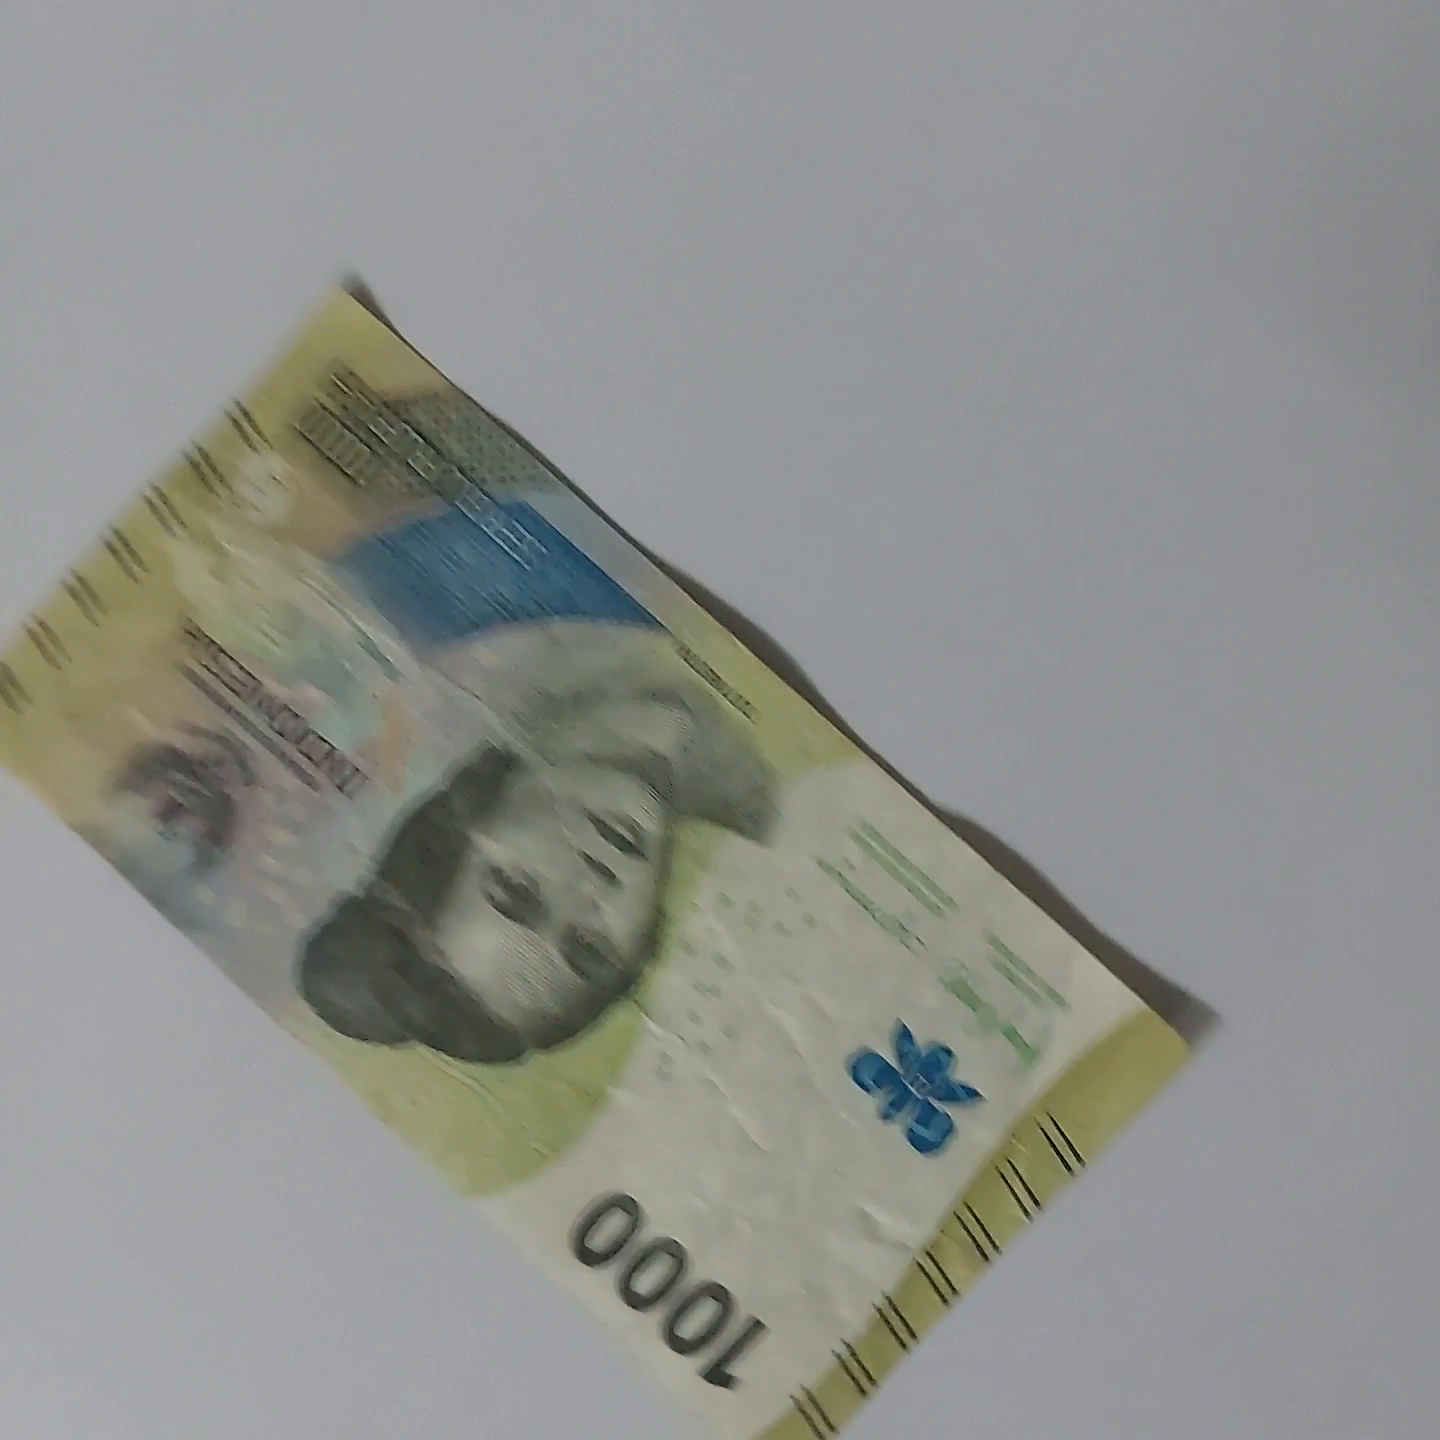1k: (32, 211, 1200, 1440)
